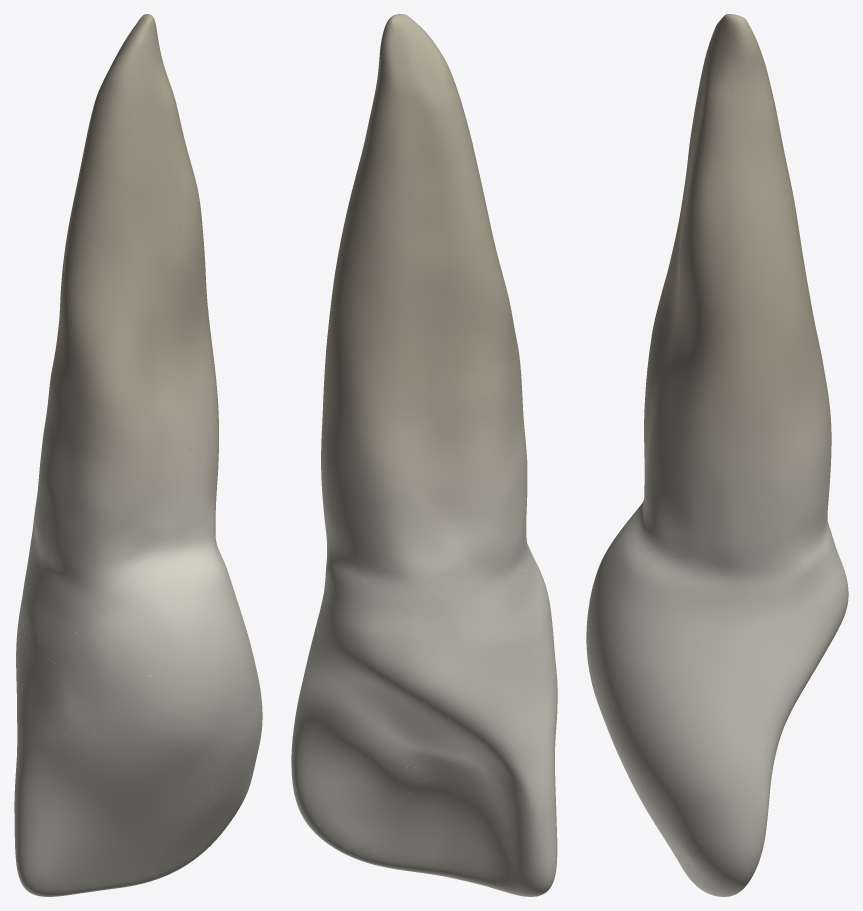
3 renders of one model, left to right at view 1: azimuth 30°, elevation 25°; view 2: azimuth 150°, elevation 25°; view 3: azimuth 270°, elevation 25°, orthographic. The views are drawn at different scales.
Parts seen in each view (by area): view 1: Tooth_62_0, Tooth_62_1; view 2: Tooth_62_0, Tooth_62_1; view 3: Tooth_62_0, Tooth_62_1.
Part boxes in pixels (x1,y1,x2,y2): Tooth_62_0: (14,14,262,896); Tooth_62_1: (14,14,262,896); Tooth_62_0: (291,14,557,895); Tooth_62_1: (291,15,557,896); Tooth_62_0: (586,14,848,896); Tooth_62_1: (586,16,848,893).
Bounding box in the file's own units: 0.65 × 2.19 × 0.6011.
